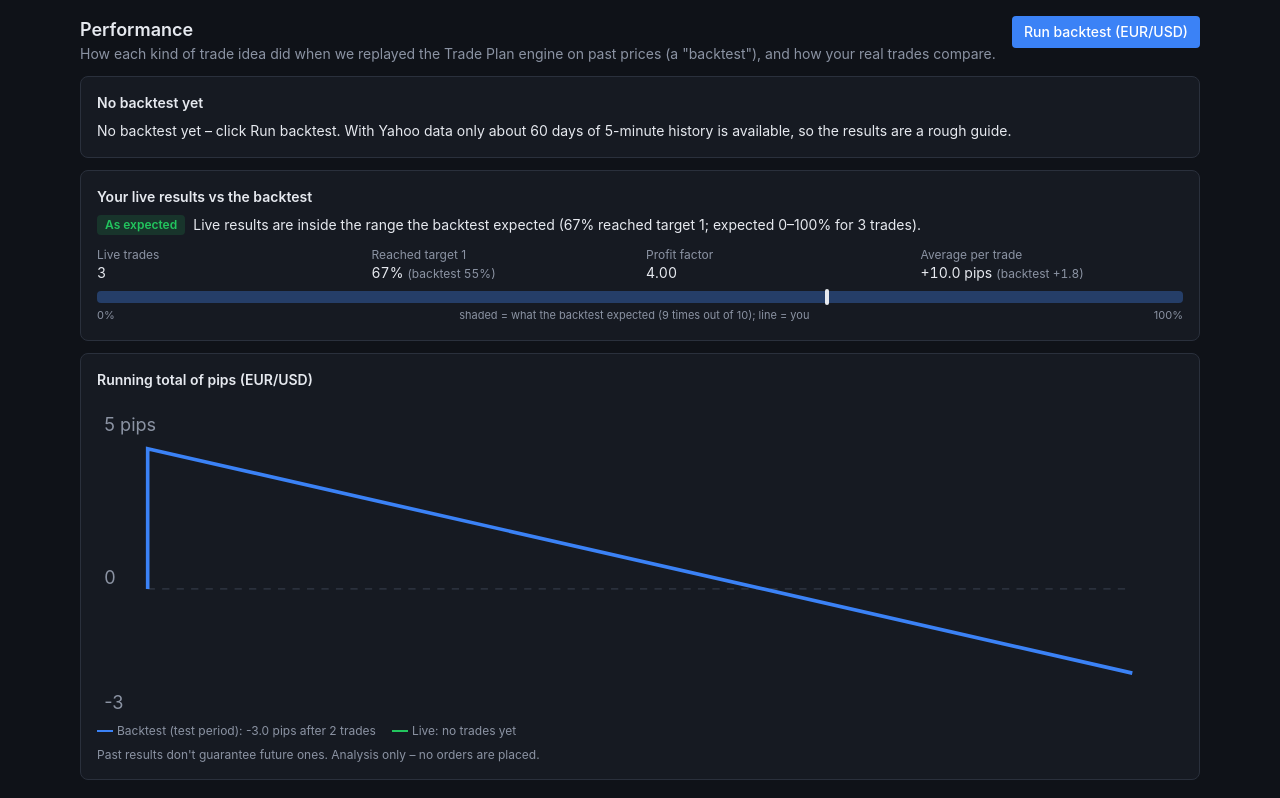
Test: PerformanceTab › shows the empty state and starts a backtest with progress
Check: the text "No backtest yet – click Run backtest" is shown, box [97, 122, 1011, 139]
Click the button "Run backtest (EUR/USD)": [1106, 32] box [1012, 16, 1200, 48]
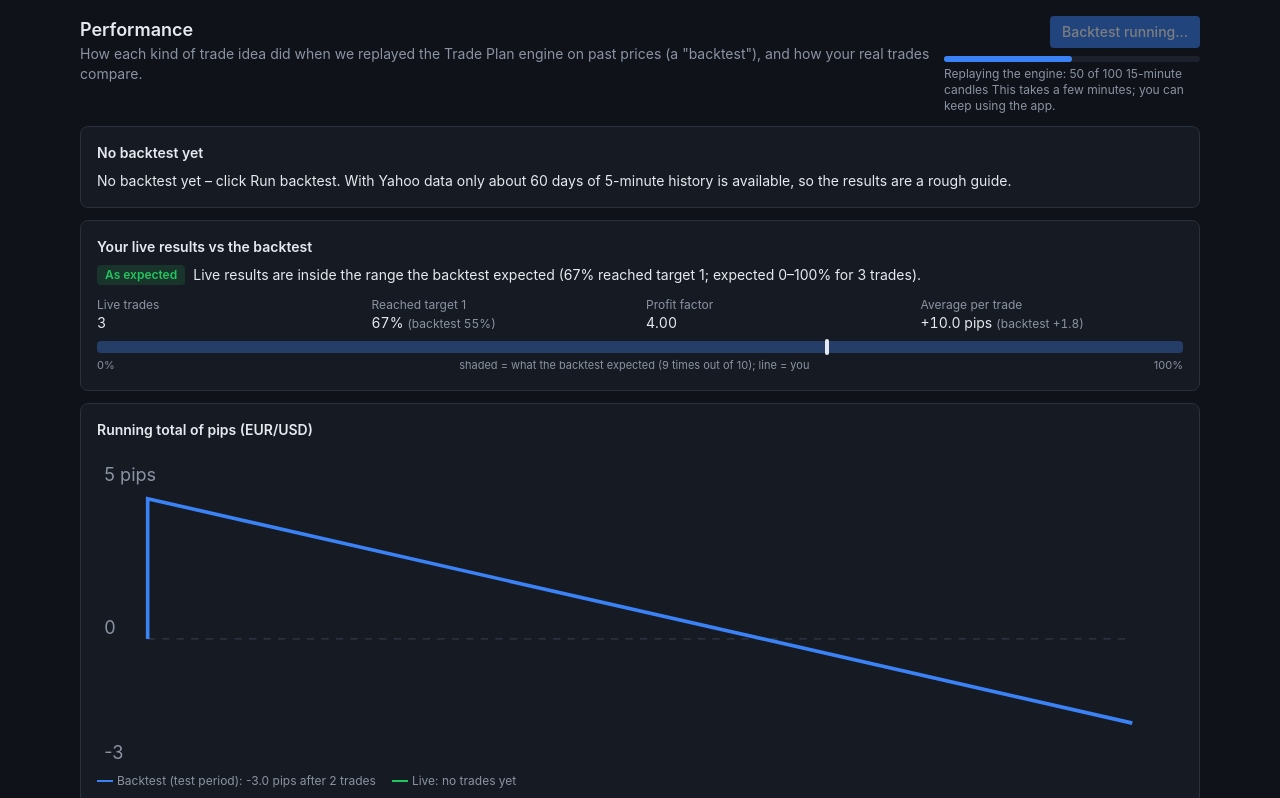
Check: the text "Replaying the engine: 50 of 100" is shown, box [944, 66, 1182, 97]
Check: the button "Backtest running…" is disabled, box [1050, 16, 1200, 48]
